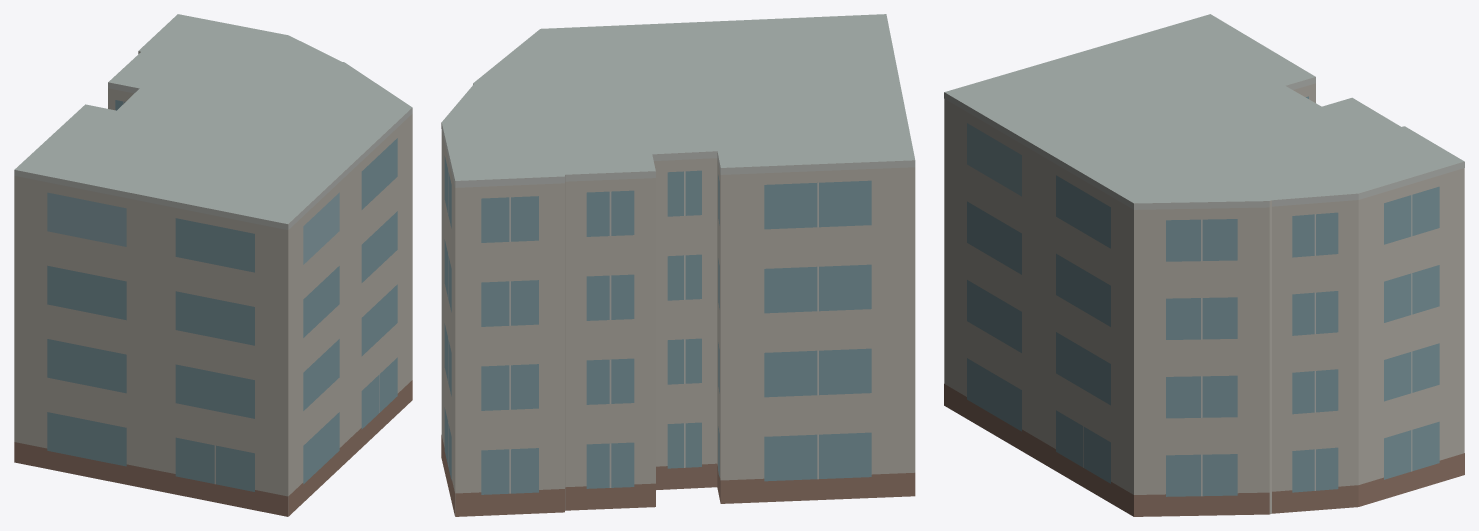
File: survey-upis-32666852.glb
3 renders of one model, left to right at view 1: azimuth 30°, elevation 25°; view 2: azimuth 150°, elevation 25°; view 3: azimuth 270°, elevation 25°, orthographic. The views are drawn at different scales.
Parts seen in each view (by area): view 1: survey-upis-32666852.tmp; view 2: survey-upis-32666852.tmp; view 3: survey-upis-32666852.tmp.
Part boxes in pixels (bbox=[...]): survey-upis-32666852.tmp: bbox=[14, 14, 412, 516]; survey-upis-32666852.tmp: bbox=[441, 14, 915, 516]; survey-upis-32666852.tmp: bbox=[944, 14, 1464, 516].
Bounding box in the file's own units: 15.44 × 11.9 × 17.92.
